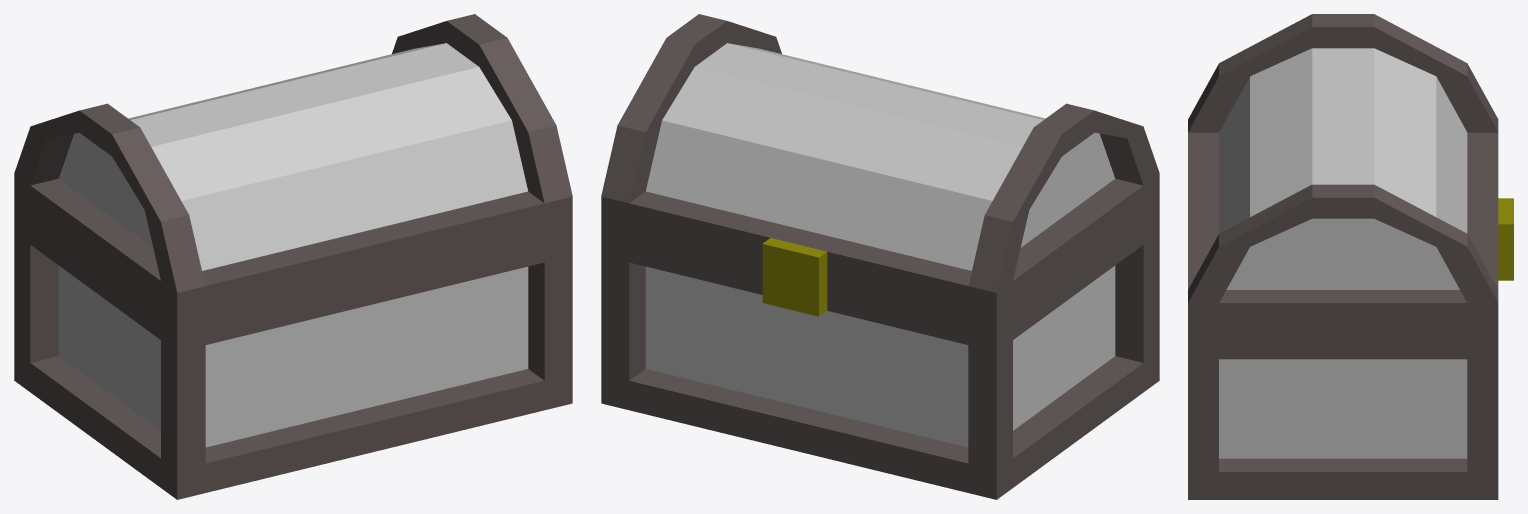
File: wooden_chest_8.obj
The picture shows the model from 3 angles, left to right: view 1: azimuth 30°, elevation 25°; view 2: azimuth 150°, elevation 25°; view 3: azimuth 270°, elevation 25°; orthographic projection. The views are drawn at different scales.
Parts seen in each view (by area): view 1: 1249; view 2: 1249; view 3: 1249.
Boxes of the visible parts, left/top/right/bottom form: 1249: left=14, top=14, right=572, bottom=499; 1249: left=601, top=14, right=1159, bottom=499; 1249: left=1188, top=14, right=1513, bottom=499.
Bounding box in the file's own units: 112 × 86 × 84.
